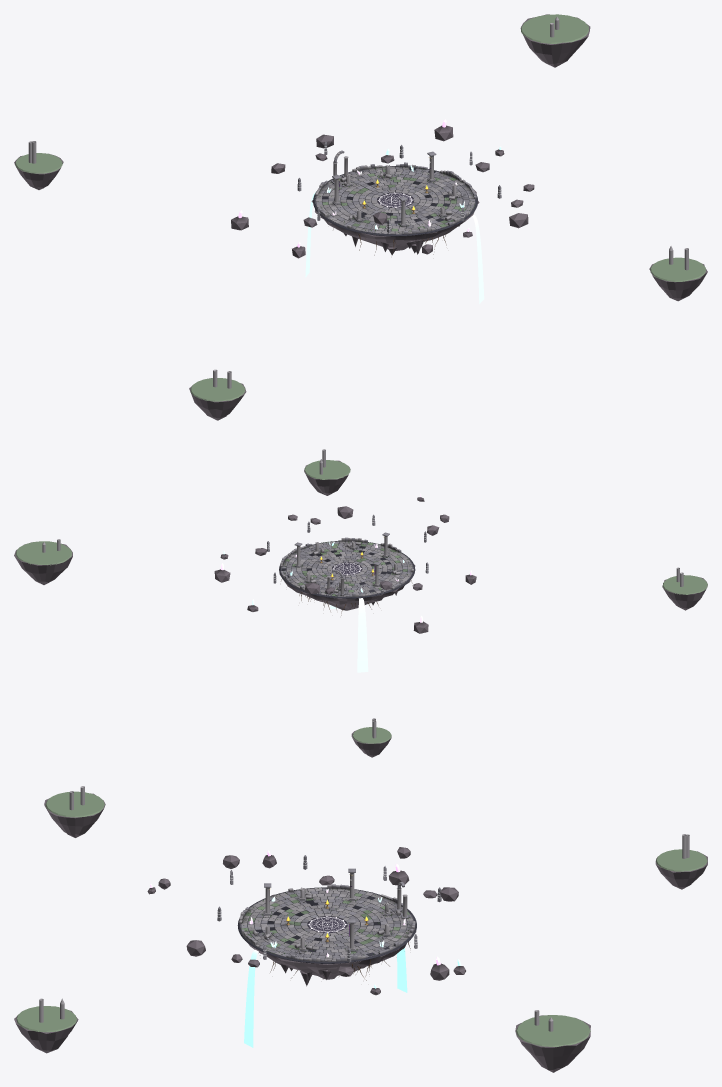
The model's file is arena.glb.
3 renders of one model, top to bottom at view 1: azimuth 30°, elevation 25°; view 2: azimuth 150°, elevation 25°; view 3: azimuth 270°, elevation 25°, orthographic. The views are drawn at different scales.
Parts seen in each view (by area): view 1: arena_tiles, far_island_0, arena_floor, far_island_3, far_island_2, far_island_1, arena_underside, arena_walls; view 2: arena_tiles, far_island_0, arena_floor, far_island_3, far_island_2, far_island_1, arena_underside, manafall_1, arena_walls; view 3: arena_tiles, far_island_0, arena_floor, far_island_3, far_island_2, far_island_1, arena_underside, arena_walls, manafall_0.
Boxes of the visible parts, x1,y1,x2,y2 form: arena_tiles: (315, 166, 475, 234); far_island_0: (520, 14, 590, 67); arena_floor: (313, 166, 477, 236); far_island_3: (649, 246, 707, 301); far_island_2: (189, 369, 246, 420); far_island_1: (14, 141, 63, 189); arena_underside: (311, 189, 479, 255); arena_walls: (315, 162, 476, 234); arena_tiles: (281, 541, 413, 596); far_island_0: (14, 539, 72, 584); arena_floor: (279, 541, 415, 598); far_island_3: (304, 449, 350, 495); far_island_2: (662, 567, 707, 610); far_island_1: (351, 718, 391, 757); arena_underside: (279, 562, 415, 610); manafall_1: (357, 598, 368, 672); arena_walls: (280, 537, 413, 597); arena_tiles: (240, 887, 413, 961); far_island_0: (515, 1010, 590, 1072); arena_floor: (237, 887, 416, 963); far_island_3: (14, 998, 78, 1053); far_island_2: (44, 786, 105, 837); far_island_1: (655, 834, 707, 889); arena_underside: (240, 892, 416, 986); arena_walls: (239, 884, 415, 961); manafall_0: (244, 949, 258, 1047).
Bounding box in the file's own units: 196 × 40.15 × 177.
